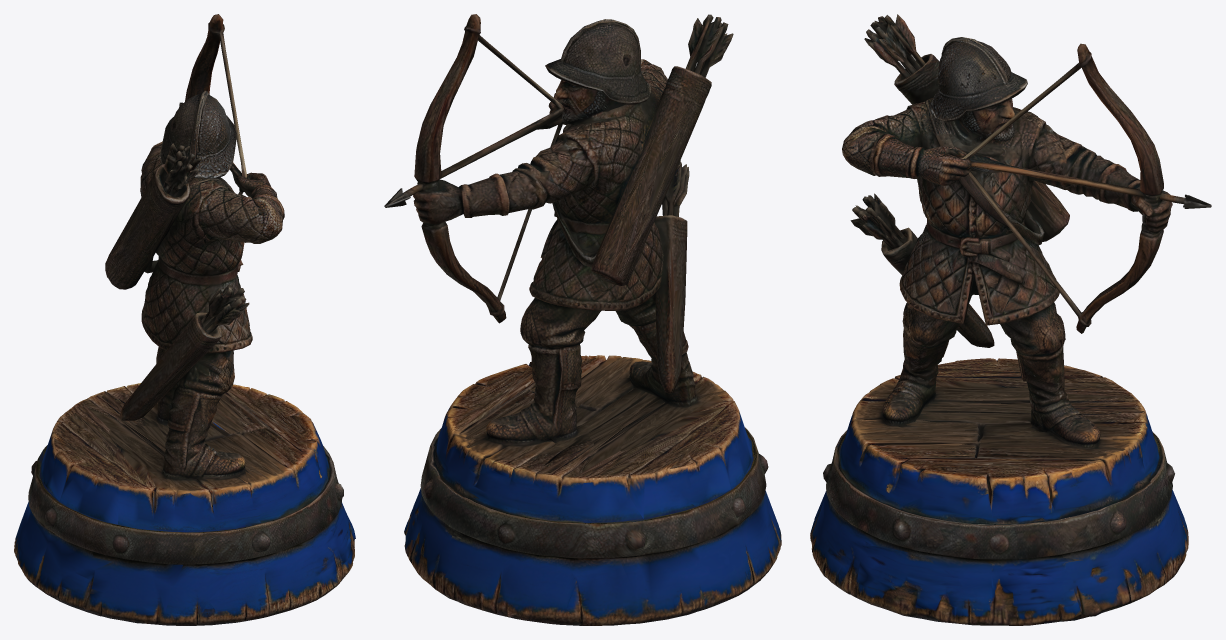
File: piece_archers.glb
3 views of the same model, side by side, from view 1: azimuth 30°, elevation 25°; view 2: azimuth 150°, elevation 25°; view 3: azimuth 270°, elevation 25° (orthographic). The views are drawn at different scales.
Visible parts, largest first — view 1: piece_archers; view 2: piece_archers; view 3: piece_archers.
Part boxes in pixels (x1,y1,x2,y2): piece_archers: [14, 14, 355, 625]; piece_archers: [384, 14, 781, 625]; piece_archers: [810, 14, 1211, 625].
Size of the model in its own units: 0.9865 by 1.59 by 1.06.
Materials: 1 (1 with a texture image).
